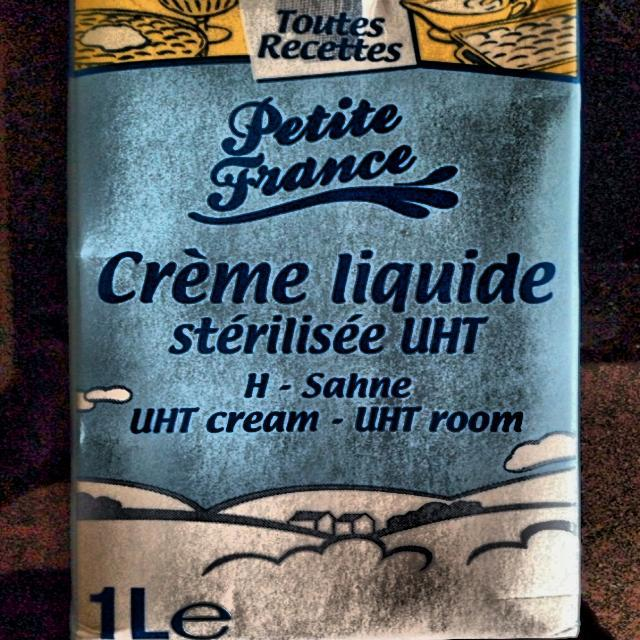cardboard: (67, 0, 583, 640)
